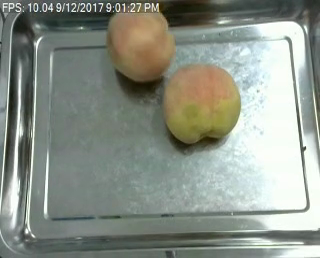Peach: (164, 63, 241, 144), (106, 5, 174, 82)
